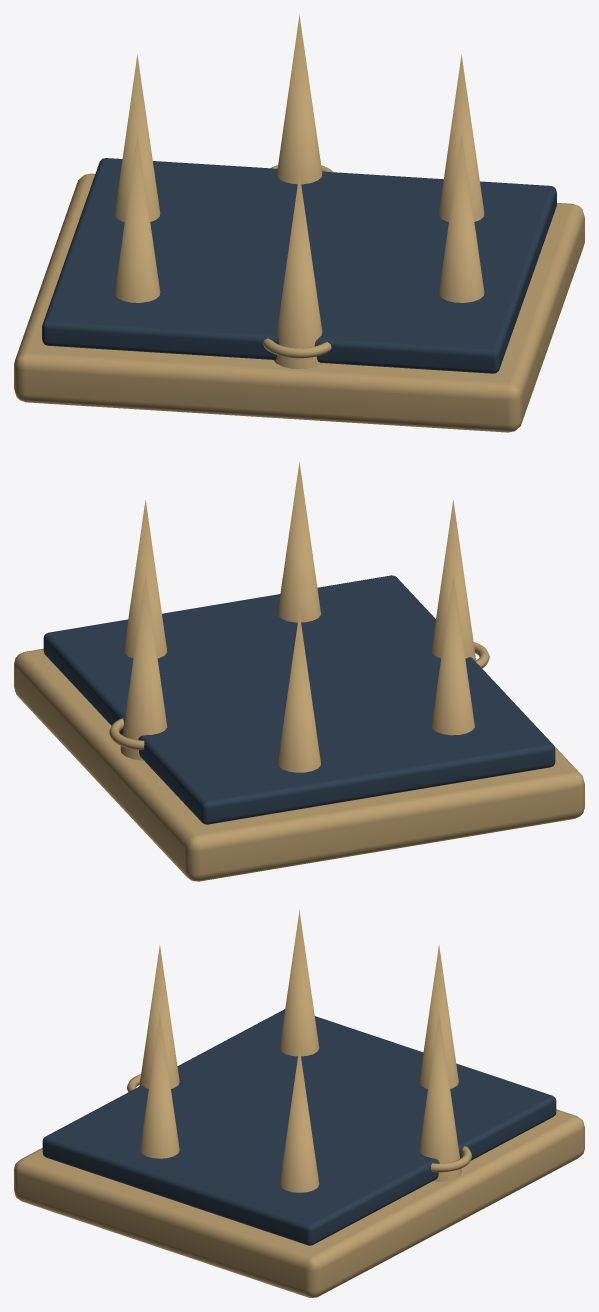
The model's file is SM_HC2_BeatCrown_007.fbx.
3 views of the same model, one above another, from view 1: azimuth 30°, elevation 25°; view 2: azimuth 150°, elevation 25°; view 3: azimuth 270°, elevation 25° (orthographic). The views are drawn at different scales.
Parts seen in each view (by area): view 1: SM_HC2_BeatCrown_007; view 2: SM_HC2_BeatCrown_007; view 3: SM_HC2_BeatCrown_007.
Part boxes in pixels (<box>): SM_HC2_BeatCrown_007: <box>14,14,584,432</box>; SM_HC2_BeatCrown_007: <box>14,461,584,881</box>; SM_HC2_BeatCrown_007: <box>14,910,584,1297</box>.
Size of the model in its own units: 327 by 322 by 126.
